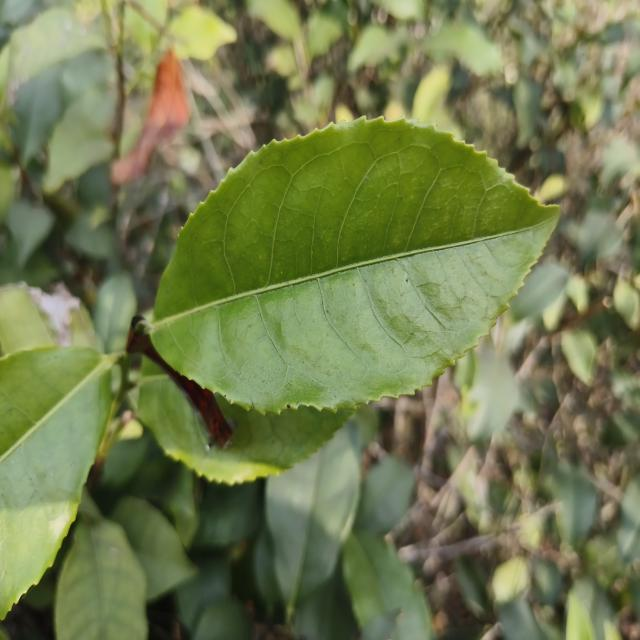Leaf: (152, 118, 558, 413), (0, 347, 115, 618), (138, 359, 352, 484), (266, 424, 360, 612), (54, 519, 148, 640), (343, 530, 431, 640), (111, 496, 197, 601), (461, 343, 520, 441), (12, 65, 63, 164), (354, 454, 414, 535), (193, 482, 261, 548), (176, 554, 231, 633), (423, 23, 502, 75), (549, 462, 597, 546), (169, 5, 237, 60), (93, 272, 137, 353), (510, 262, 569, 319), (7, 200, 54, 268), (575, 211, 622, 270), (102, 435, 150, 487), (192, 599, 252, 640), (412, 65, 450, 121), (455, 557, 488, 617), (561, 330, 597, 385), (566, 591, 594, 640)
